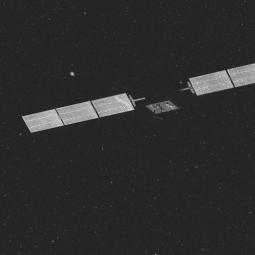smart_1: (62, 63, 227, 143)
